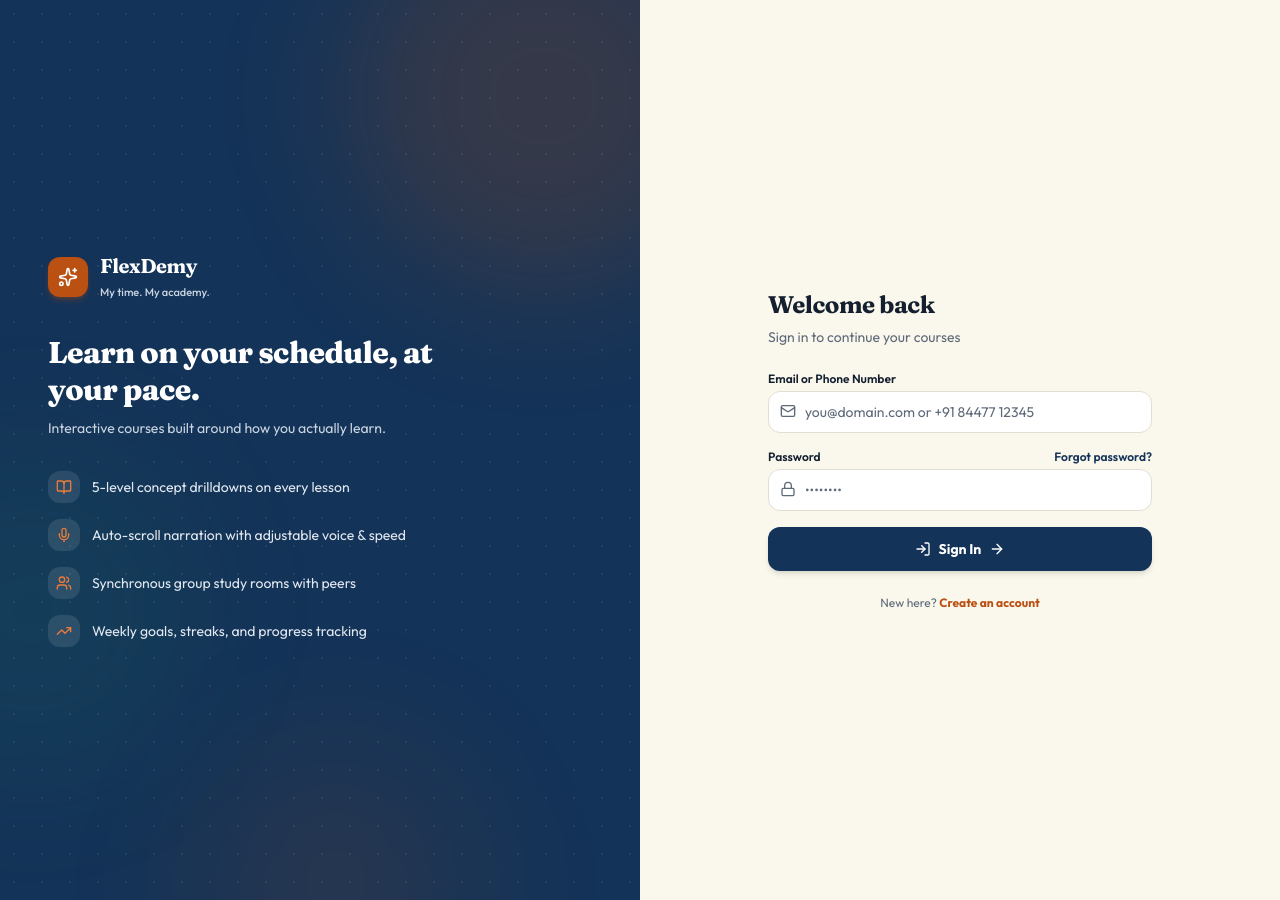
Test case: LoginPage › shows the backend error and does not authenticate on wrong credentials
Type "hemsingh81@gmail.com" into the field with placeholder "you@domain.com or +91 84477 12345" at (960, 412), box left=768, top=391, right=1152, bottom=433
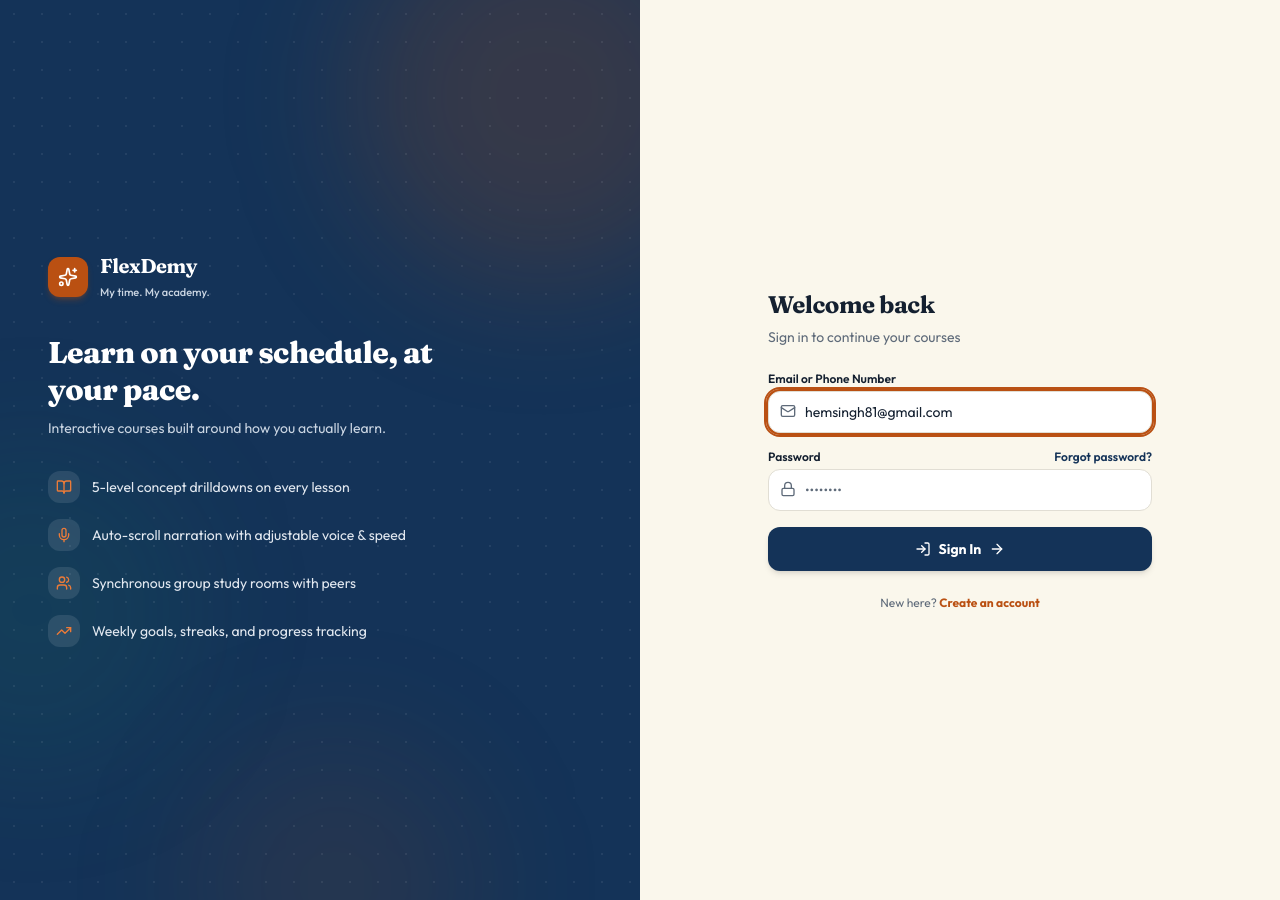
Type "wrong-password" into the password field with placeholder "••••••••" at (960, 490), box left=768, top=469, right=1152, bottom=511
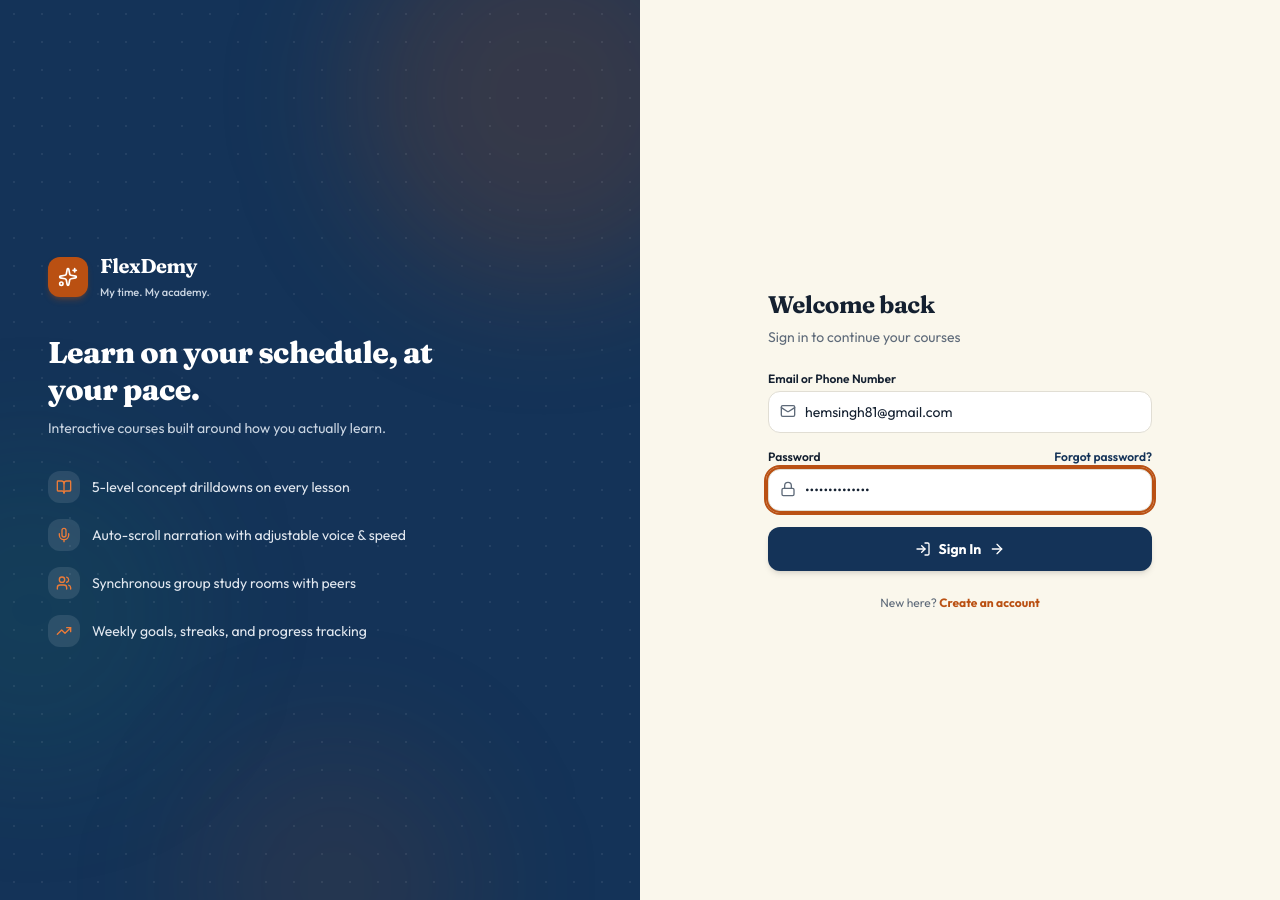
Click the button "Sign In" at (960, 549), box left=768, top=527, right=1152, bottom=571
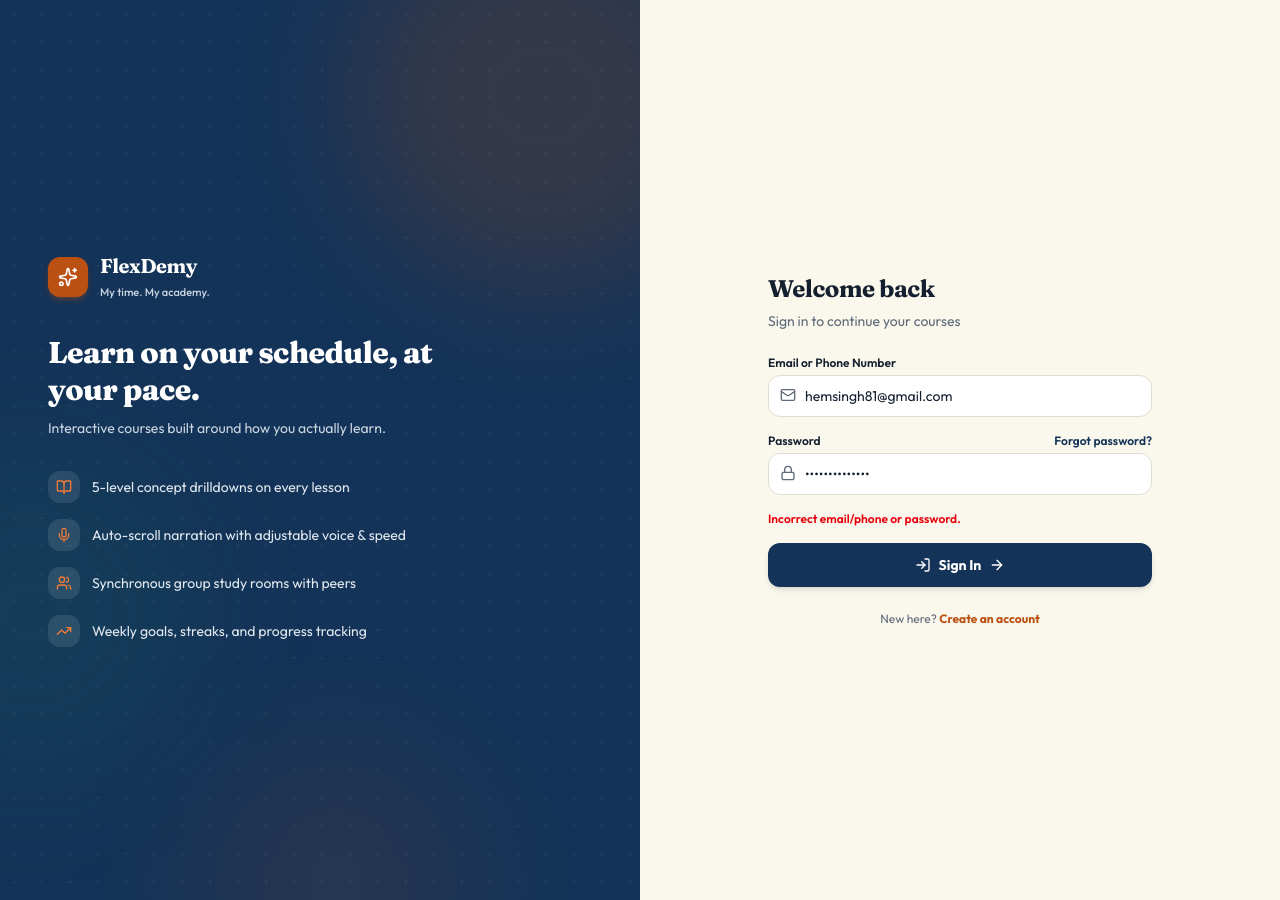
Check: the text "Incorrect email/phone or password." is shown, box left=768, top=511, right=961, bottom=526
